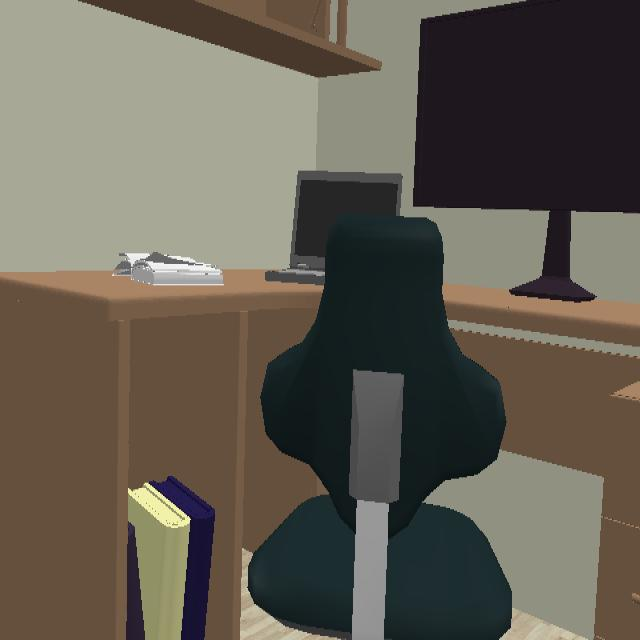book: (151, 477, 215, 639), (128, 483, 190, 639), (112, 252, 222, 285)
chair: (249, 213, 511, 638)
laptop: (265, 170, 402, 284)
monitor: (414, 2, 640, 301)
table: (0, 270, 324, 638), (452, 328, 640, 638), (445, 288, 640, 344)
